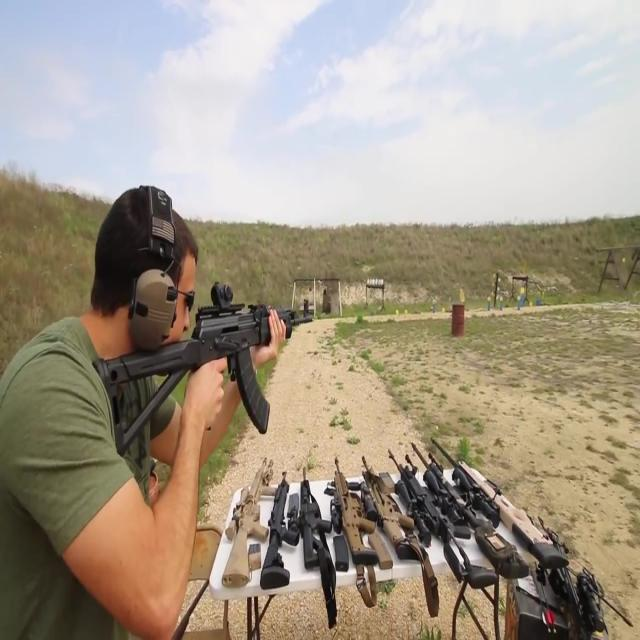Weapon: (216, 452, 577, 602), (82, 261, 326, 455), (150, 552, 238, 640)
